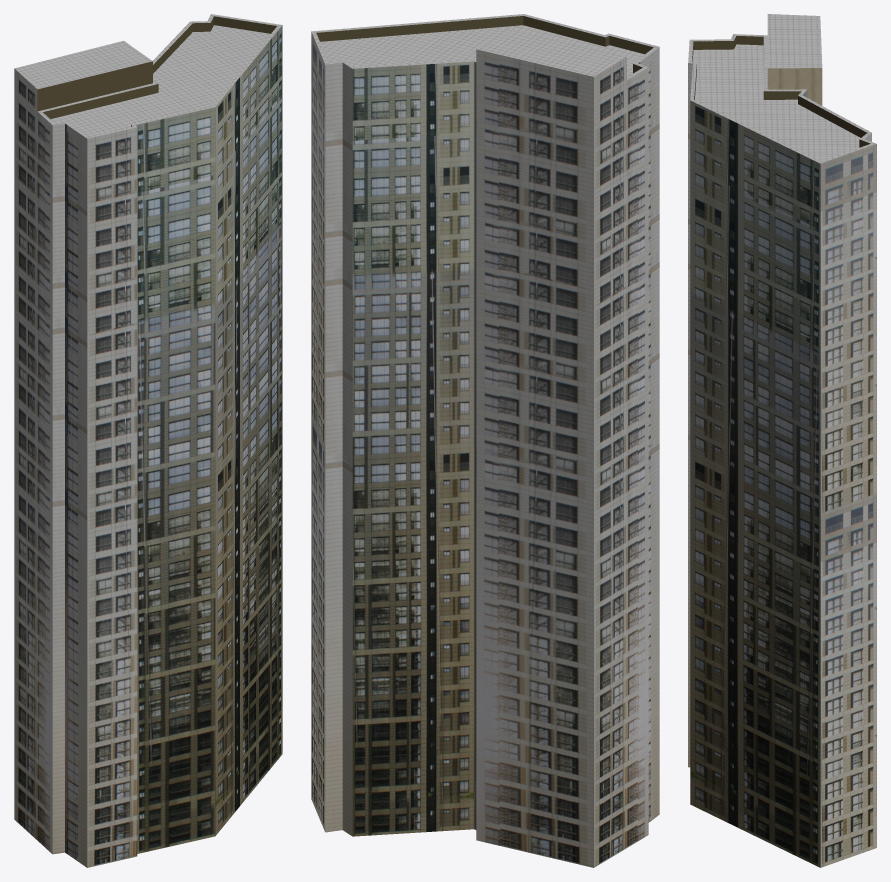
3 views of the same model, side by side, from view 1: azimuth 30°, elevation 25°; view 2: azimuth 150°, elevation 25°; view 3: azimuth 270°, elevation 25° (orthographic). The views are drawn at different scales.
Visible parts, largest first — view 1: MainBuilding; view 2: MainBuilding; view 3: MainBuilding.
Part boxes in pixels (x1,y1,x2,y2): MainBuilding: (14, 14, 282, 867); MainBuilding: (311, 14, 659, 867); MainBuilding: (688, 14, 876, 867).
Bounding box in the file's own units: 0.391 × 1.02 × 0.2404.
Materials: 1 (1 with a texture image).
